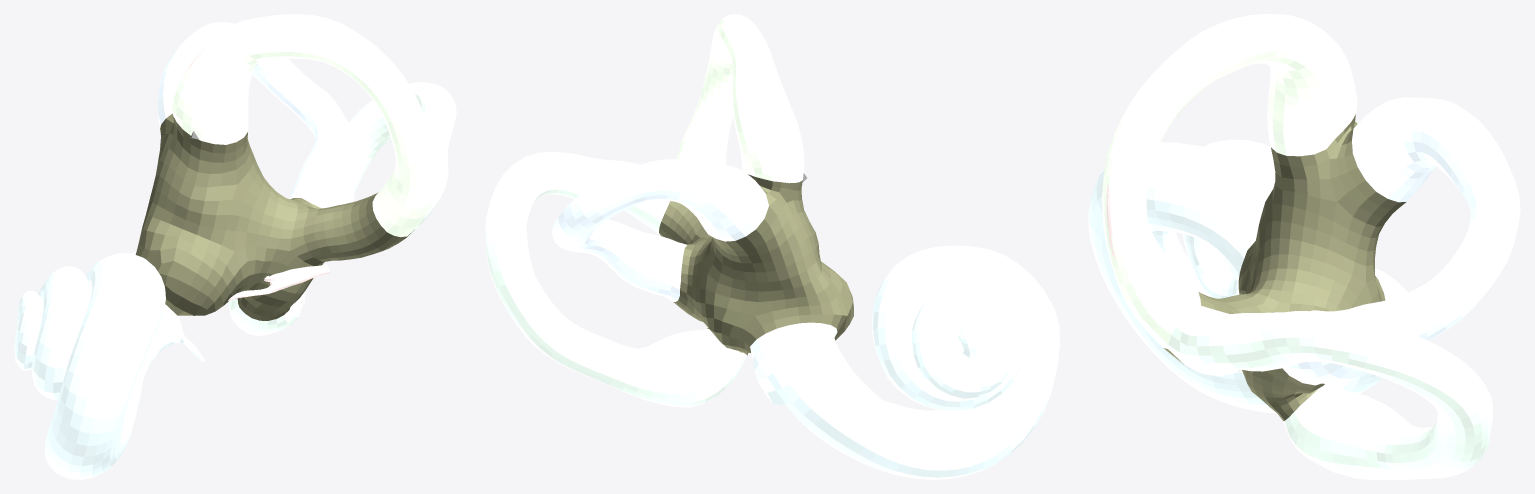
The model's file is innerEar_left.glb.
3 renders of one model, left to right at view 1: azimuth 30°, elevation 25°; view 2: azimuth 150°, elevation 25°; view 3: azimuth 270°, elevation 25°, orthographic. The views are drawn at different scales.
Visible parts, largest first — view 1: BG_R_SemicircCanals_Cochlea_Bone_LP2, BG_R_endolymph_LP; view 2: BG_R_SemicircCanals_Cochlea_Bone_LP2; view 3: BG_R_SemicircCanals_Cochlea_Bone_LP2.
Boxes of the visible parts, left/top/right/bottom form: BG_R_SemicircCanals_Cochlea_Bone_LP2: left=14, top=14, right=456, bottom=479; BG_R_endolymph_LP: left=187, top=20, right=434, bottom=300; BG_R_SemicircCanals_Cochlea_Bone_LP2: left=485, top=14, right=1059, bottom=479; BG_R_SemicircCanals_Cochlea_Bone_LP2: left=1088, top=14, right=1520, bottom=479.
Size of the model in its own units: 0.1759 by 0.1431 by 0.1089.
